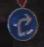turn: (6, 6, 39, 42)
